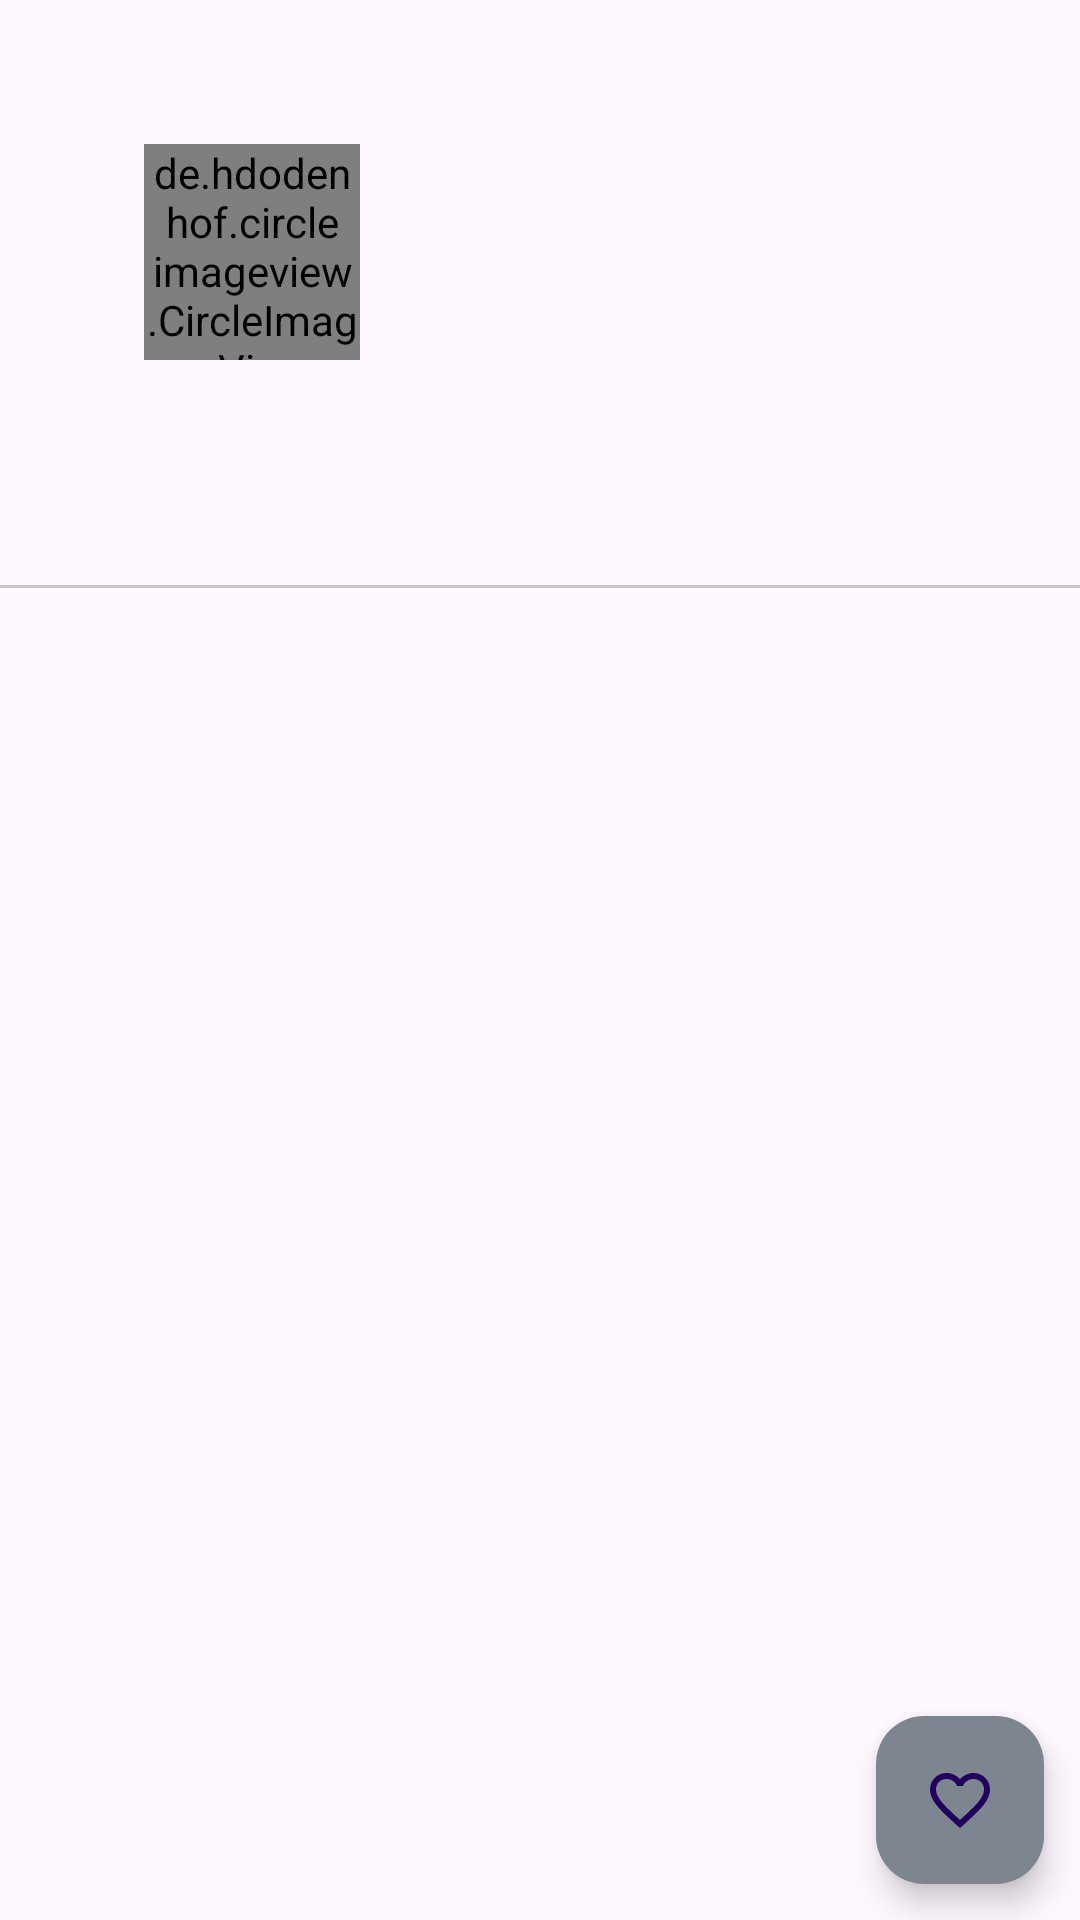

Where icons sit on this 1080 × 1920 app screen, as (x1, y1, x2, y2):
Favorite FAB: (876, 1716, 1044, 1884)
